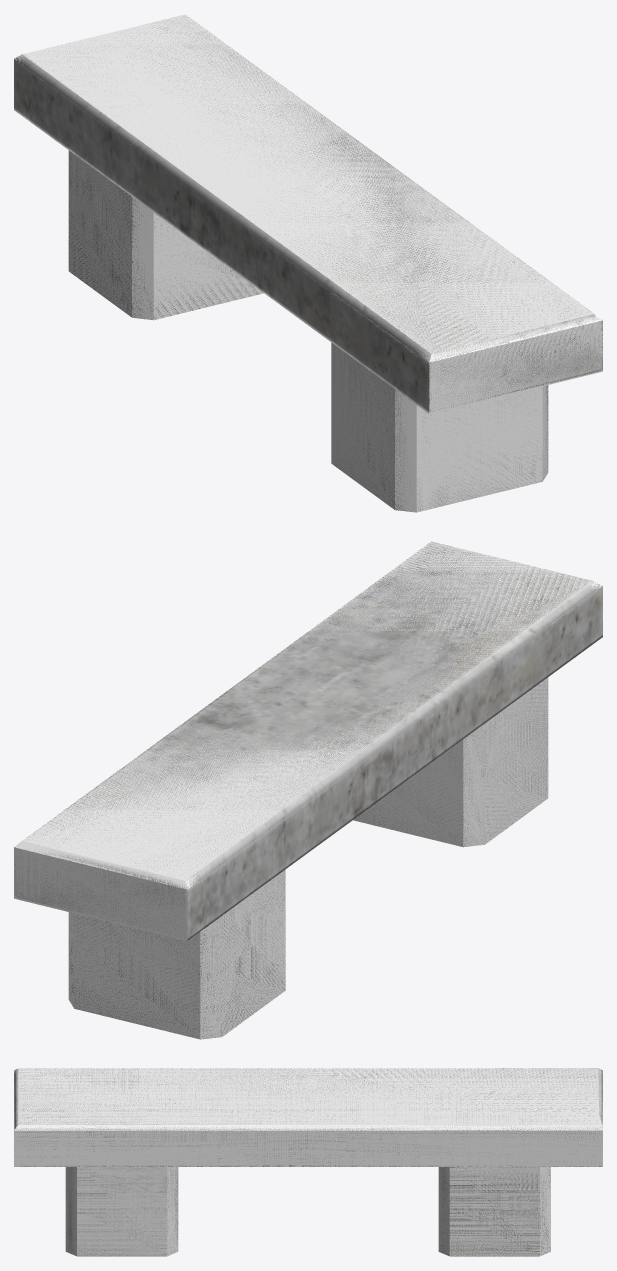
File: objects_un_dlc1_bench01_02.gltf
3 views of the same model, one above another, from view 1: azimuth 30°, elevation 25°; view 2: azimuth 150°, elevation 25°; view 3: azimuth 270°, elevation 25° (orthographic). The views are drawn at different scales.
Visible parts, largest first — view 1: um_objects_un_dlc1_bench01_02_model_lod0Shape:objects_un_dlc, um_objects_un_dlc1_bench01_02_model_lod0Shape:m_objects_un_d; view 2: um_objects_un_dlc1_bench01_02_model_lod0Shape:m_objects_un_d, um_objects_un_dlc1_bench01_02_model_lod0Shape:objects_un_dlc; view 3: um_objects_un_dlc1_bench01_02_model_lod0Shape:objects_un_dlc, um_objects_un_dlc1_bench01_02_model_lod0Shape:m_objects_un_d.
Part boxes in pixels (<box>): um_objects_un_dlc1_bench01_02_model_lod0Shape:objects_un_dlc: <box>14,14,602,512</box>; um_objects_un_dlc1_bench01_02_model_lod0Shape:m_objects_un_d: <box>14,15,602,511</box>; um_objects_un_dlc1_bench01_02_model_lod0Shape:m_objects_un_d: <box>14,541,602,1038</box>; um_objects_un_dlc1_bench01_02_model_lod0Shape:objects_un_dlc: <box>14,541,602,1039</box>; um_objects_un_dlc1_bench01_02_model_lod0Shape:objects_un_dlc: <box>14,1068,602,1256</box>; um_objects_un_dlc1_bench01_02_model_lod0Shape:m_objects_un_d: <box>14,1068,602,1256</box>.
Size of what is drawn, in the model's own units: 0.5309 by 0.5484 by 2.2.
Materials: 2 (1 with a texture image).
